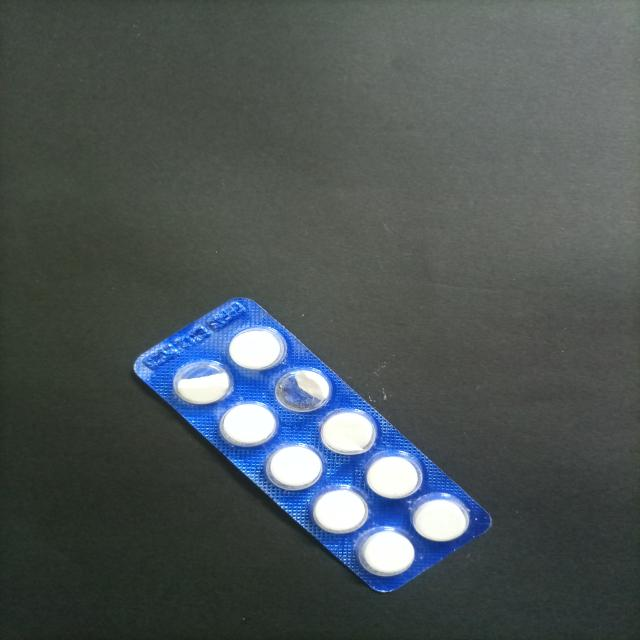defect: (171, 359, 235, 407), (273, 366, 333, 414)
